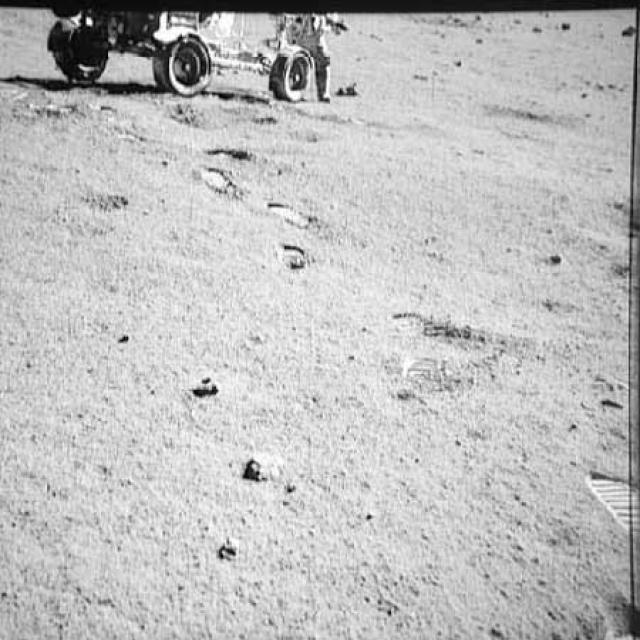artifact: (43, 0, 366, 120)
crater: (479, 87, 584, 139), (75, 184, 135, 218)
rock: (229, 438, 288, 491), (179, 362, 228, 399)
